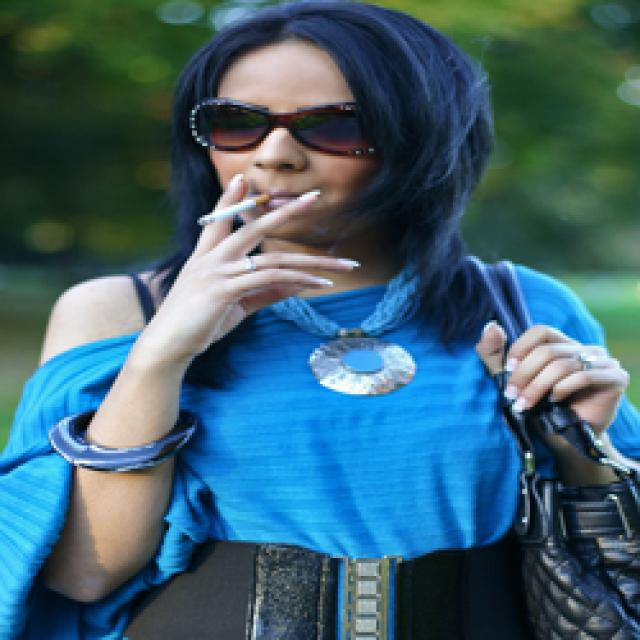Smooking: (187, 178, 267, 240)
